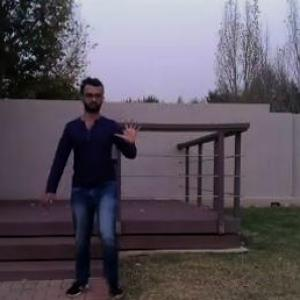follow_hand: (114, 112, 146, 148)
